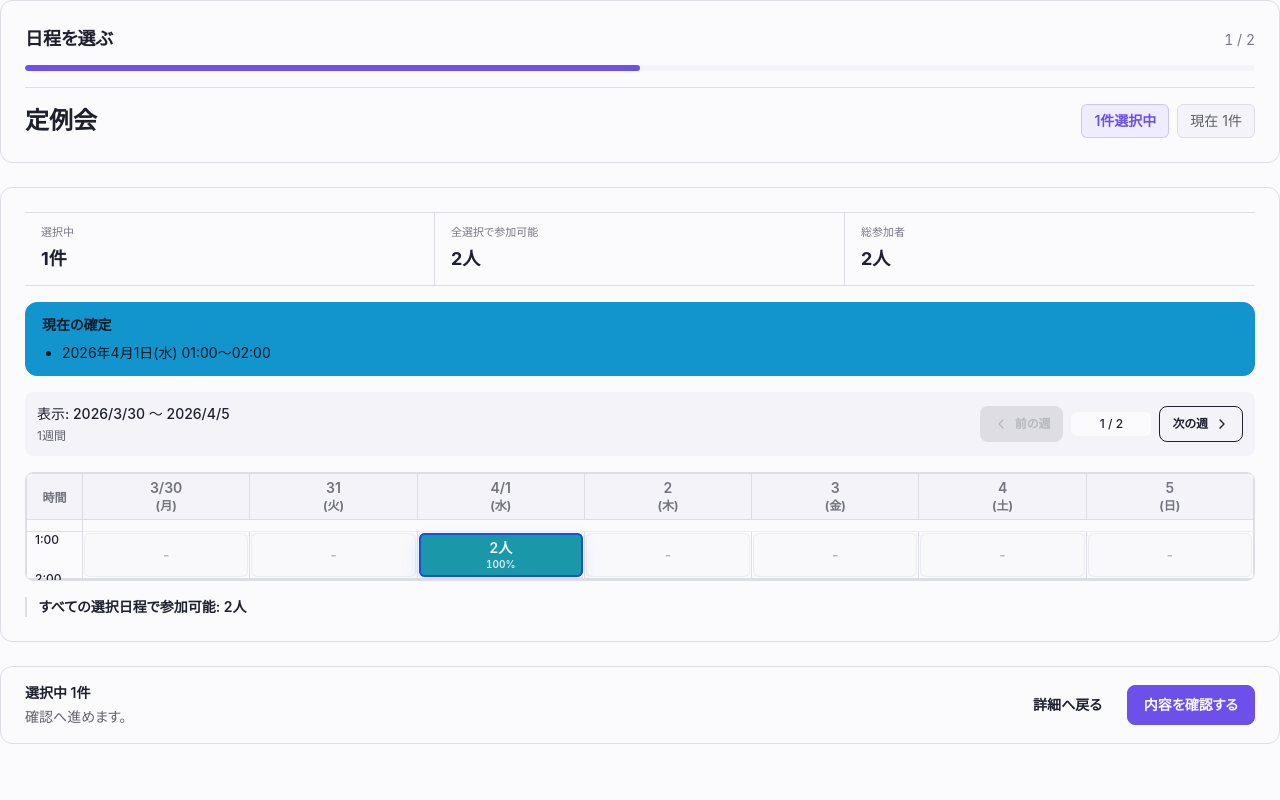
Scenario: FinalizeEventPage › 候補が離れた週にあっても空の週を表示しない
This screenshot has width=1280, height=800.
Expected: the text "1 / 2" in the row of "日程を選ぶ" is shown, [1224,30,1255,50]
Click the button with aria-label "次の週へ移動". click: coordinates (1201, 424)
box: [1159,406,1243,442]
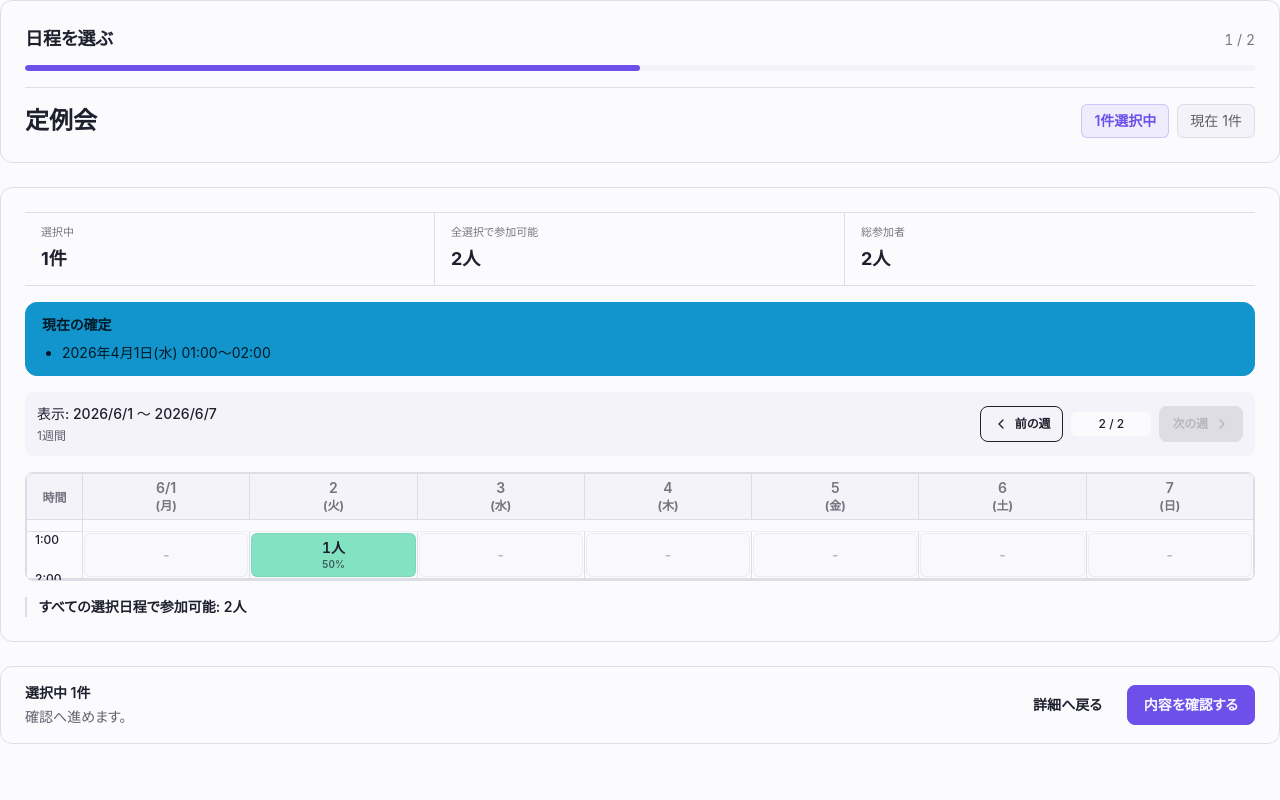
Expected: the button named "1人参加可能" is shown, [251,533,416,577]
Expected: the button with aria-label "次の週へ移動" is disabled, [1159,406,1243,442]
